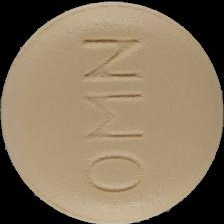54868-5343: (0, 0, 224, 224)
